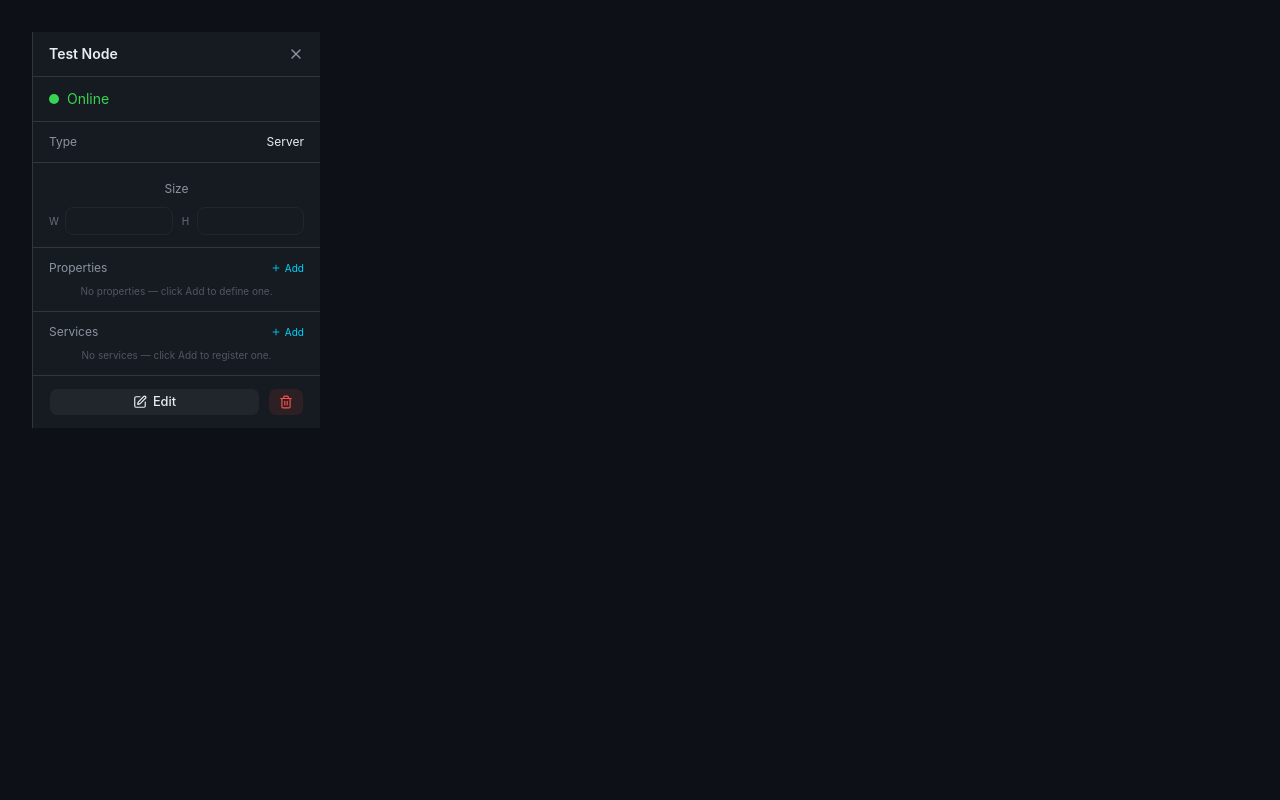
Scenario: DetailPanel › Services — add/remove › closes the modal after adding
Step 1. Click the 2nd button "Add" → (287, 332), box left=271, top=324, right=304, bottom=340
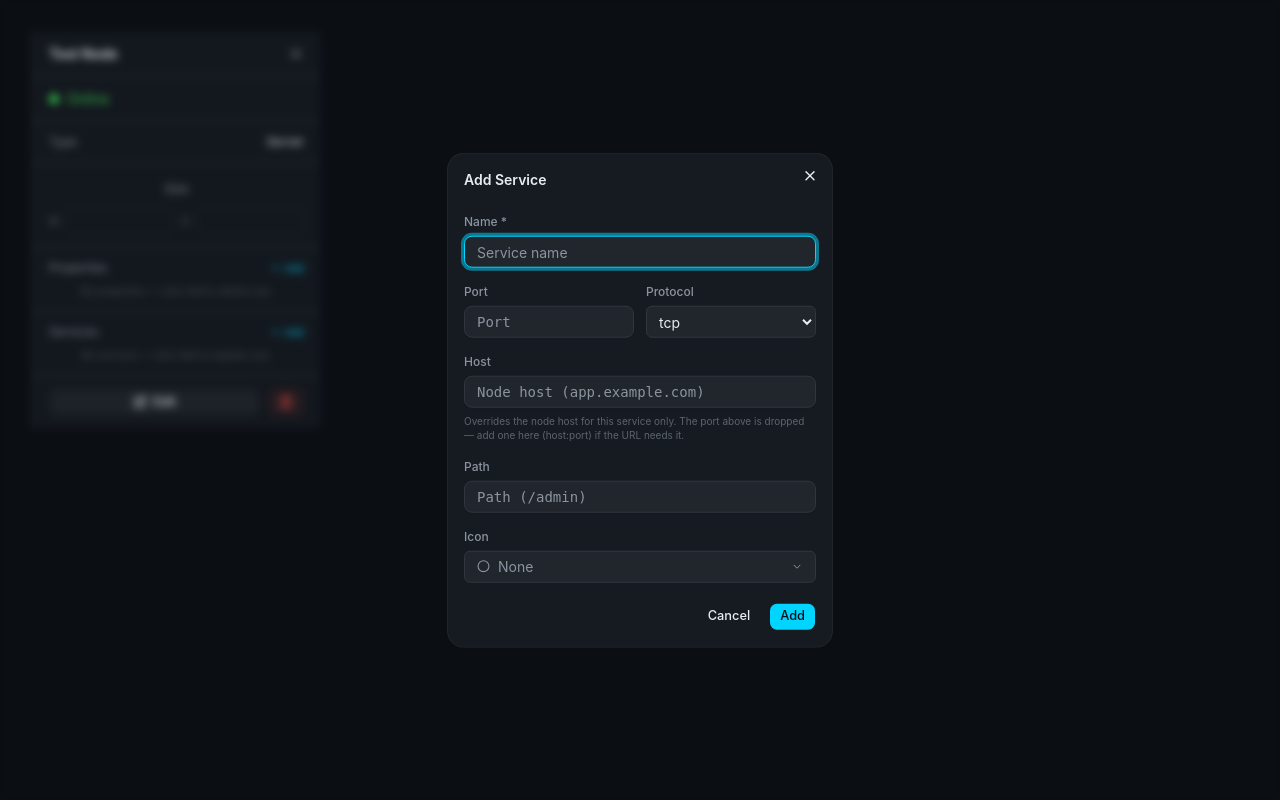
Step 2. Type "nginx" into the field with placeholder "Service name" → (640, 252), box left=464, top=236, right=816, bottom=268
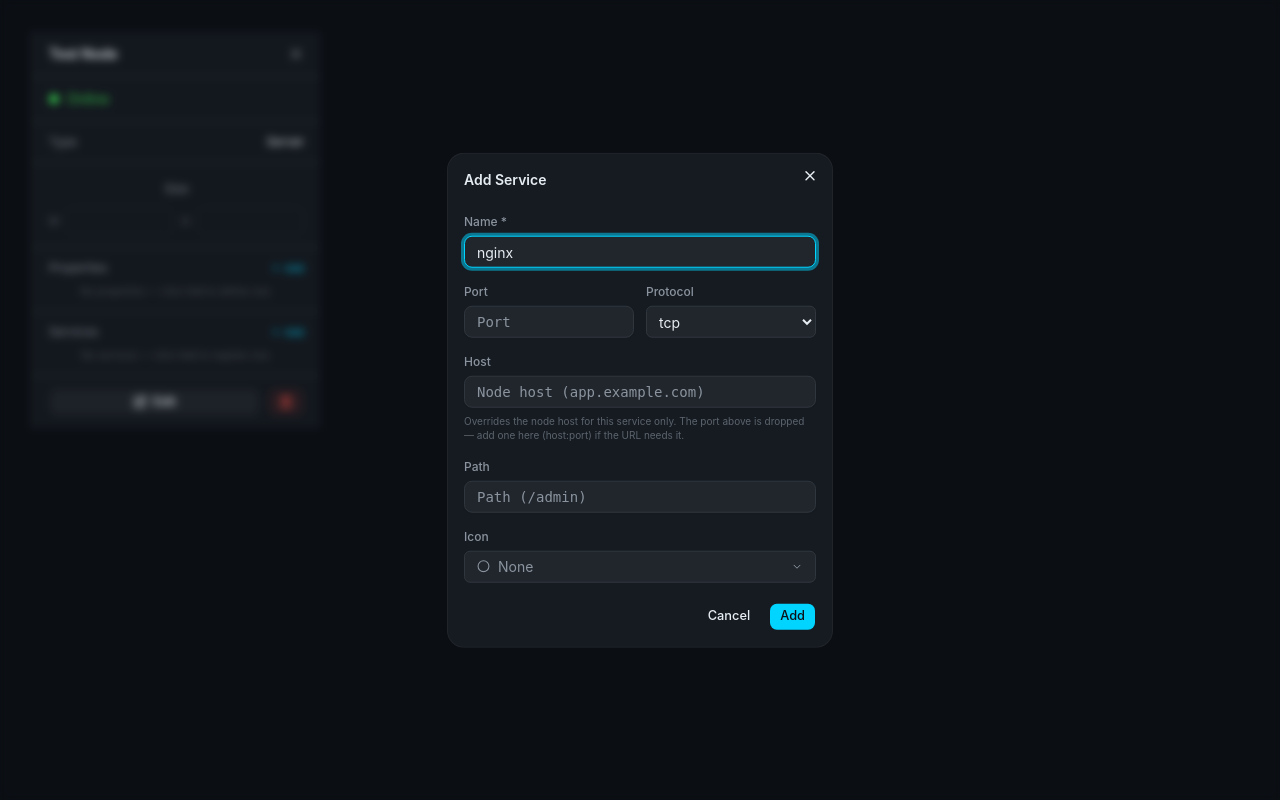
Step 3. Click the button "Add" → (793, 616), box left=769, top=602, right=816, bottom=630
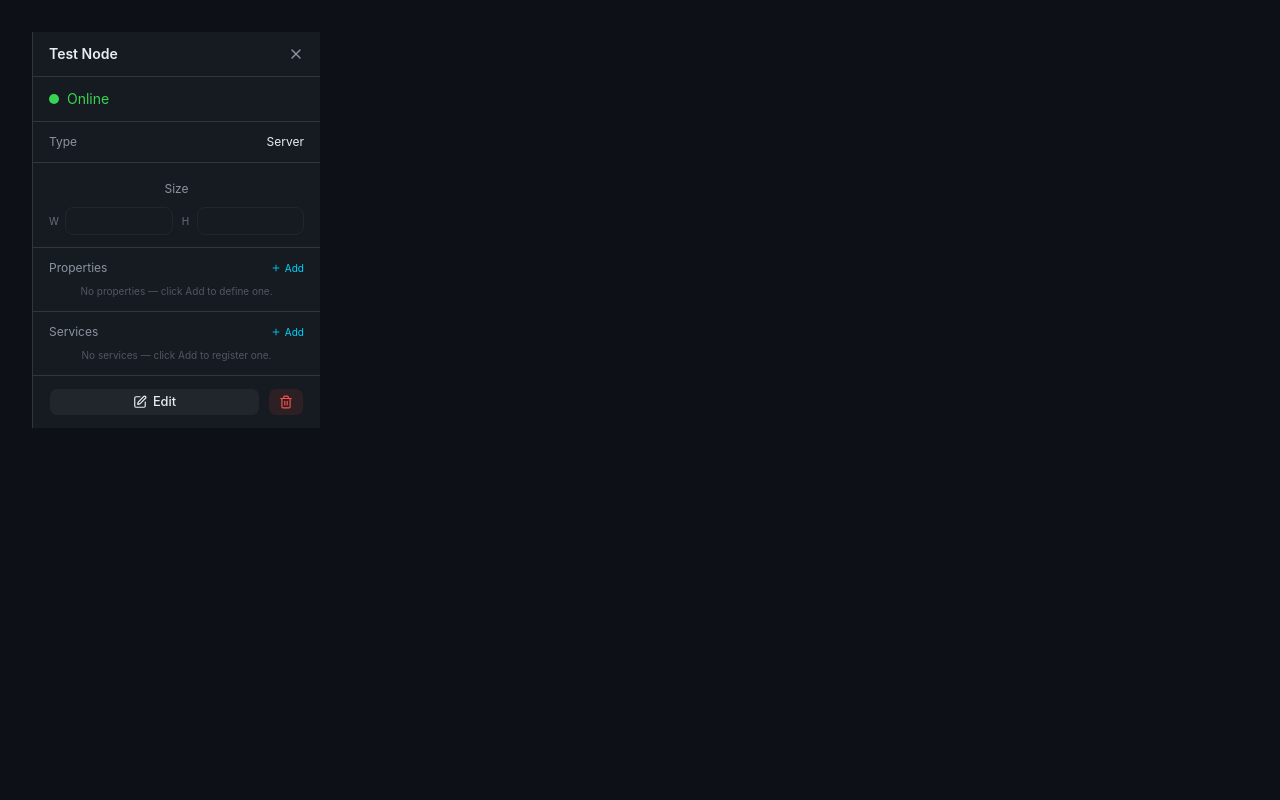
expect the dialog with placeholder "Service Name" is gone: met
